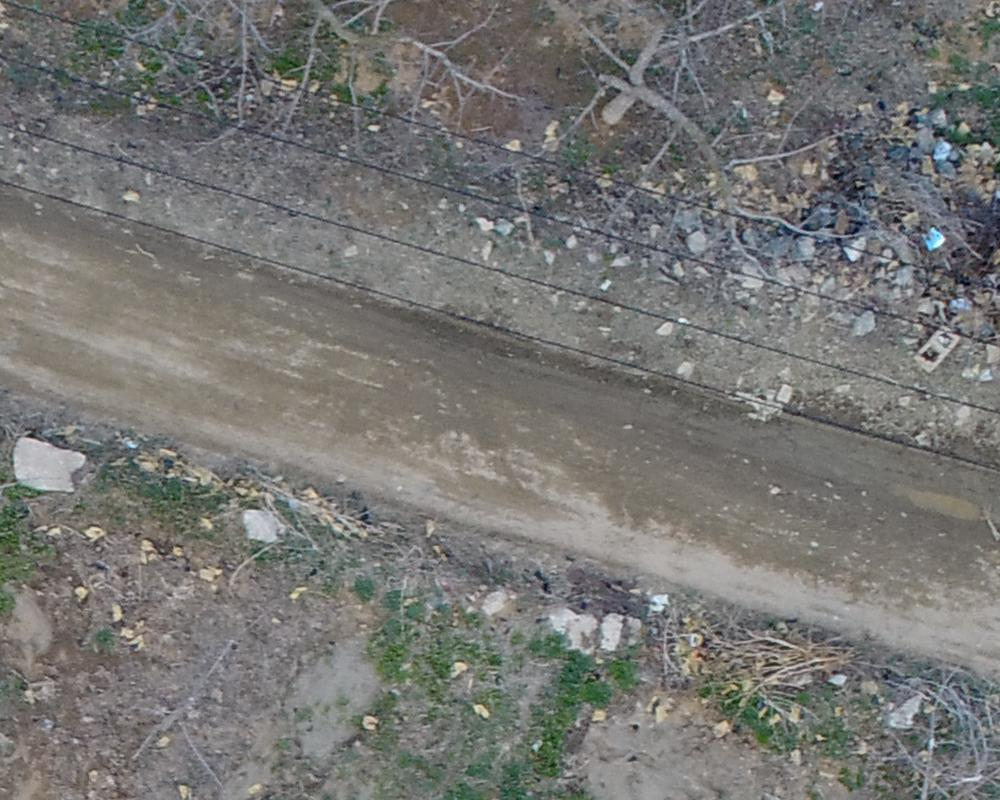apple: (540, 10, 784, 187)
